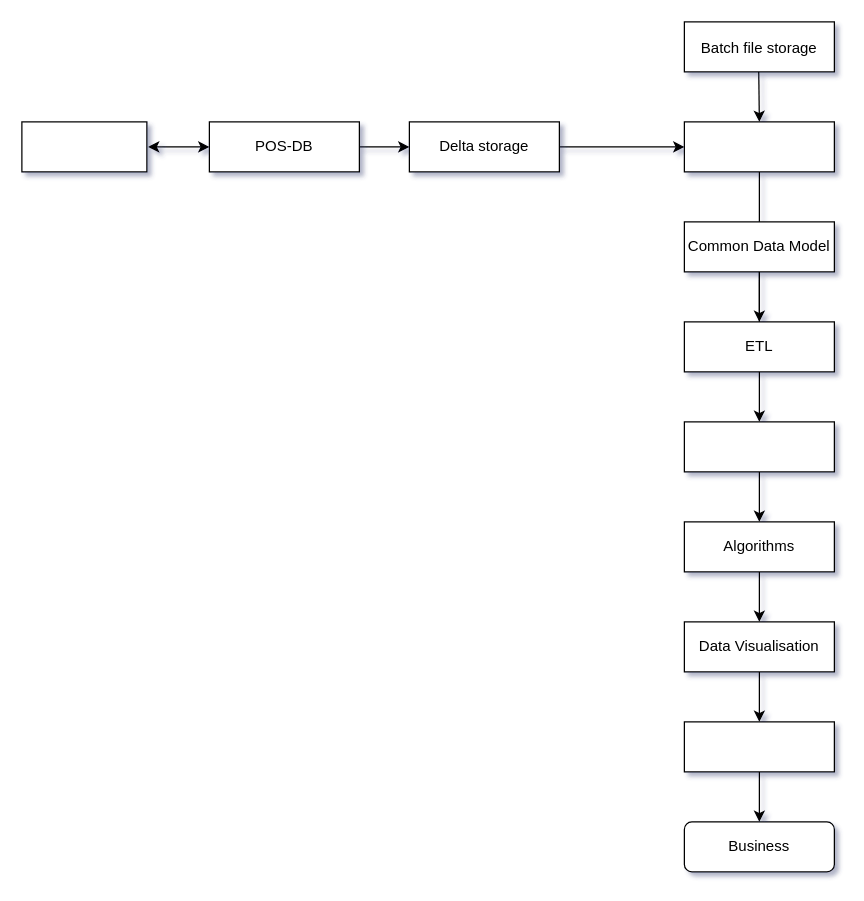
Image size: 864x901. Some labels were removed from this diagram. The shapes that lost their labels are listed below. From the top down, each one's centre as x and y in pixels, then its label:
At [84,146]: "POS Application".
At [758,146]: "Stage".
At [758,446]: "ETL O/P storage".
At [758,746]: "Decision making".
